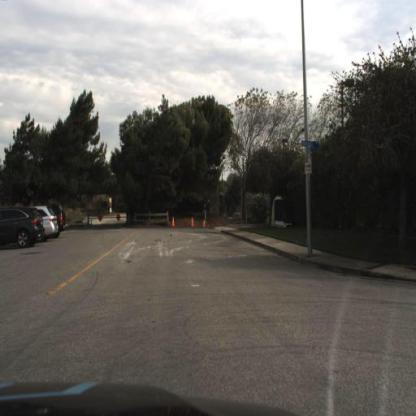car: (2, 206, 41, 253), (37, 203, 60, 245), (39, 202, 60, 242), (55, 207, 69, 240)
